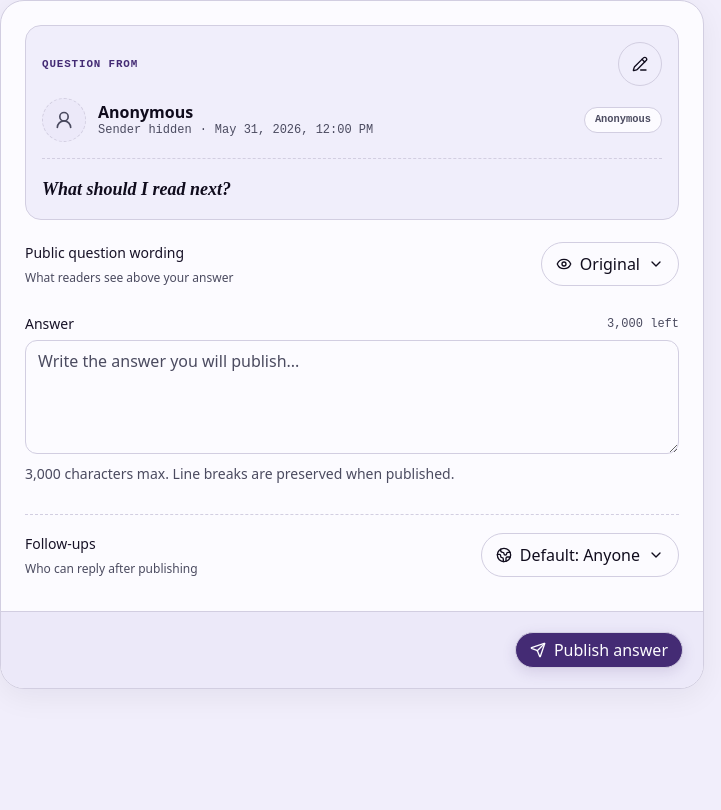
it: AnswerEditor › opens an inline question editor from the card edit icon
The width and height of the screenshot is (721, 810).
Click the button named "Edit public question wording" at (640, 64), box [618,42,662,86]
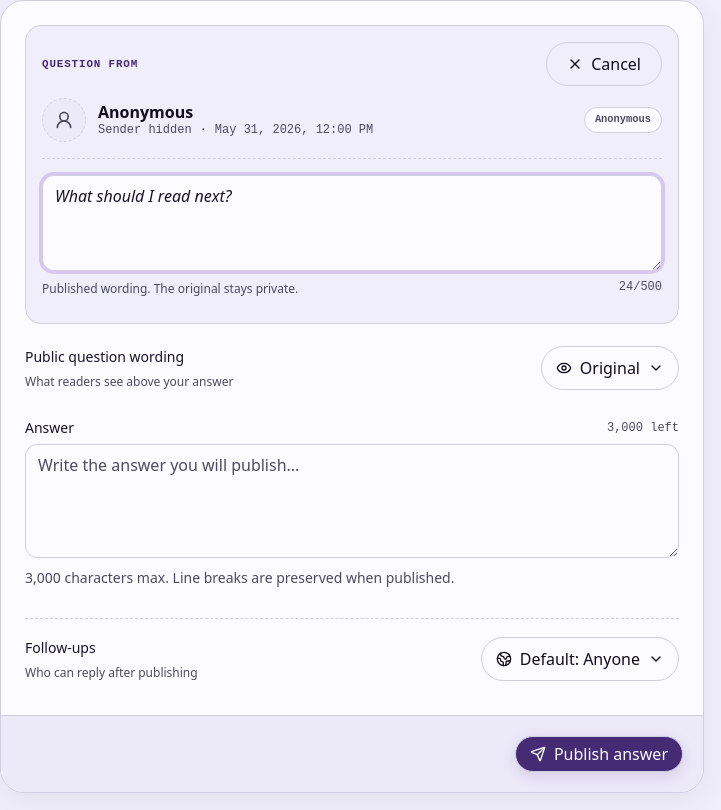
Expected: the button with aria-label "Public question wording: Original" is shown, [541,346,679,390]
Result: the text box named "Edited question" holds "What should I read next?" at [42,175,662,271]
